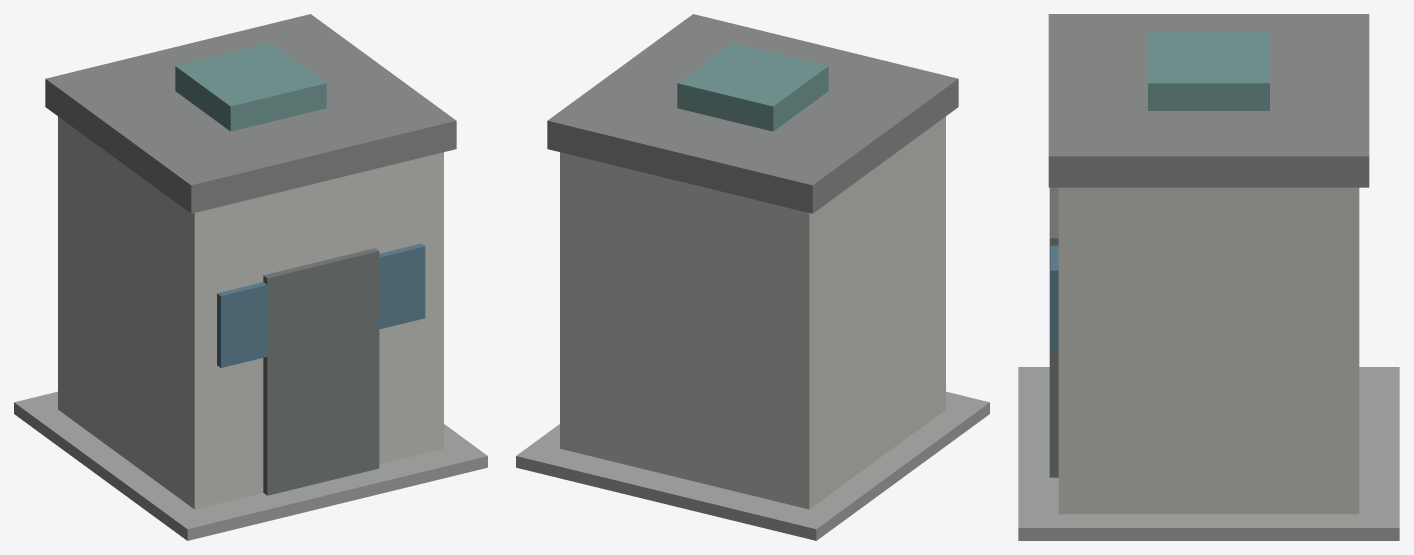
File: bus_stop.glb
3 renders of one model, left to right at view 1: azimuth 30°, elevation 25°; view 2: azimuth 150°, elevation 25°; view 3: azimuth 270°, elevation 25°, orthographic. The views are drawn at different scales.
Parts seen in each view (by area): view 1: bus_stop; view 2: bus_stop; view 3: bus_stop.
Boxes of the visible parts, x1=… form: bus_stop: x1=14, y1=14, x2=487, y2=540; bus_stop: x1=516, y1=14, x2=989, y2=540; bus_stop: x1=1018, y1=14, x2=1399, y2=540.
Bounding box in the file's own units: 1.88 × 2.19 × 1.88.
